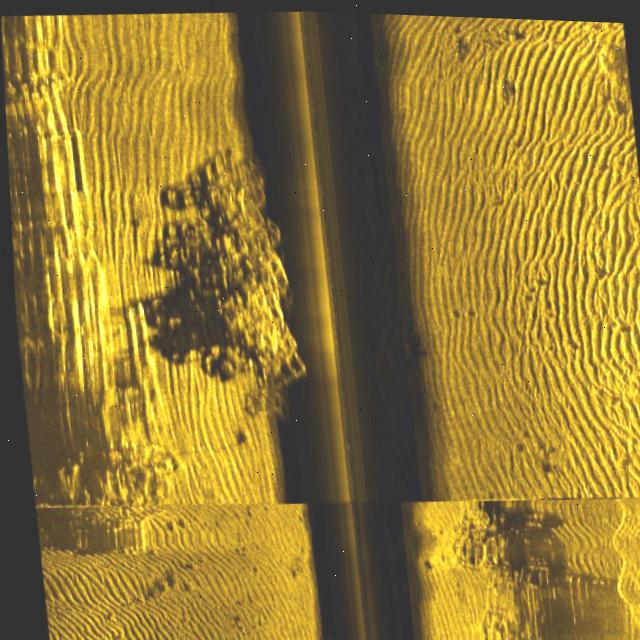artificial reef: (151, 103, 311, 443)
